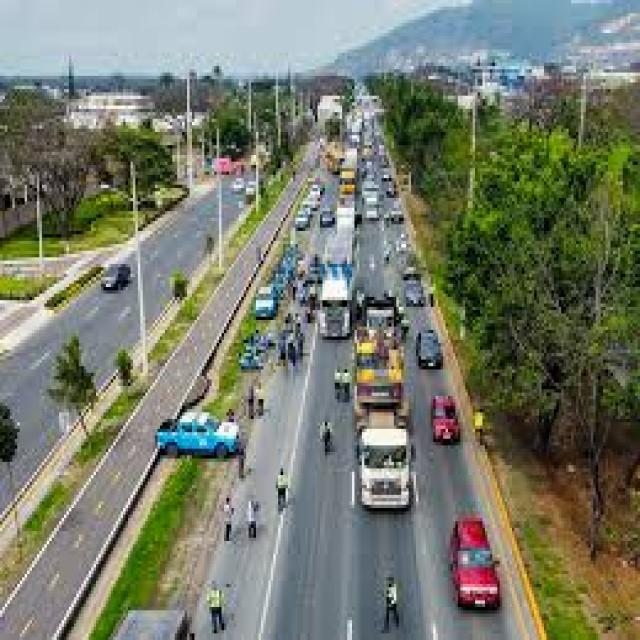CMT: (153, 410, 241, 460)
TRUCK: (353, 376, 413, 512), (320, 245, 354, 344)
